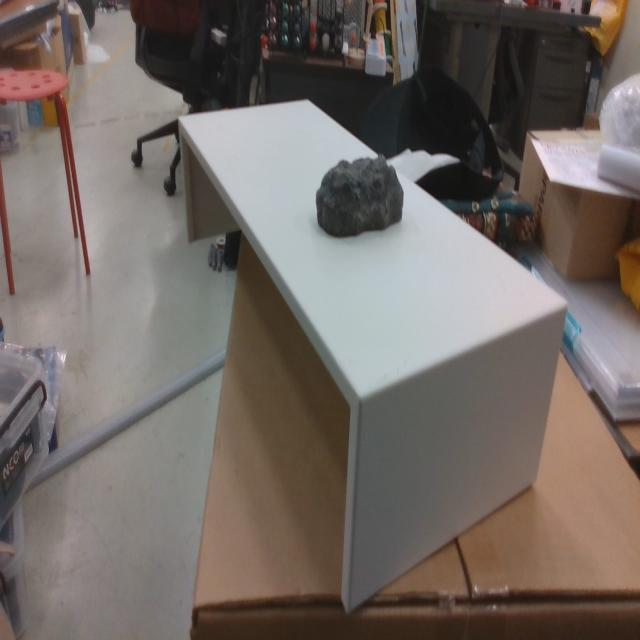stone: (316, 154, 404, 239)
